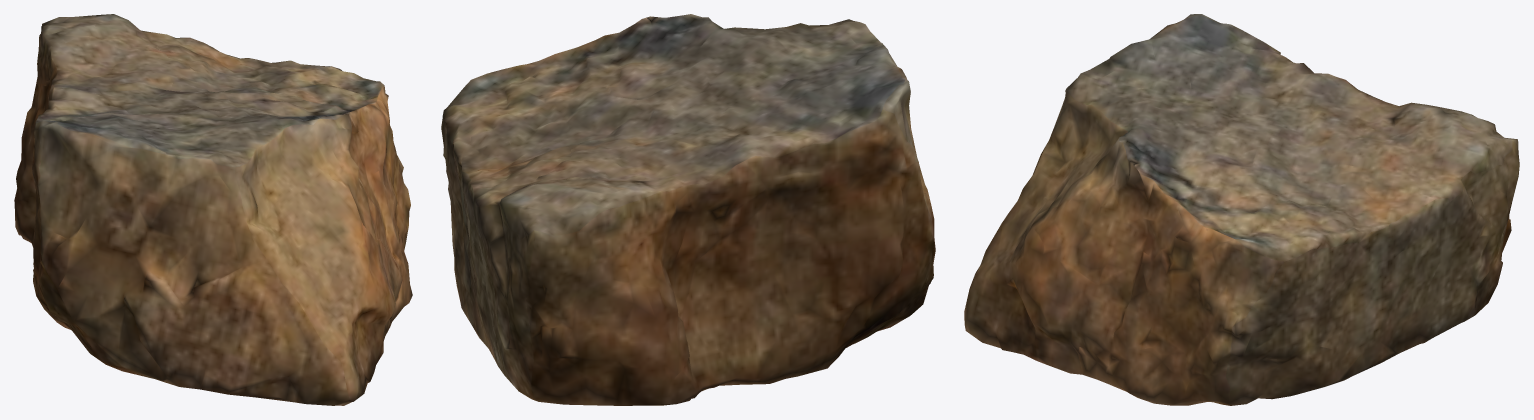
The model's file is ph-namaqualand-boulder-03.lod1.glb.
3 views of the same model, side by side, from view 1: azimuth 30°, elevation 25°; view 2: azimuth 150°, elevation 25°; view 3: azimuth 270°, elevation 25° (orthographic). The views are drawn at different scales.
Parts seen in each view (by area): view 1: boulder_03_LOD0; view 2: boulder_03_LOD0; view 3: boulder_03_LOD0.
Part boxes in pixels (left/top/right/bottom): boulder_03_LOD0: left=14, top=14, right=412, bottom=405; boulder_03_LOD0: left=441, top=14, right=935, bottom=405; boulder_03_LOD0: left=964, top=14, right=1519, bottom=405.
Size of the model in its own units: 2.4 by 1.47 by 3.06.
Materials: 1 (1 with a texture image).
